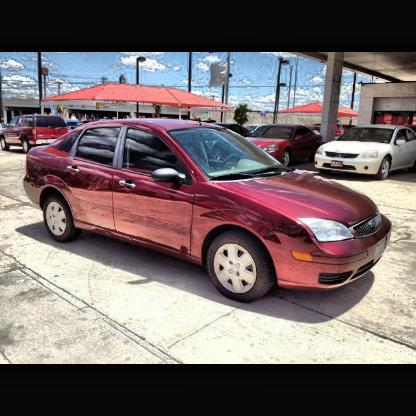Ford Focus Sedan 2007: (25, 119, 394, 305)
